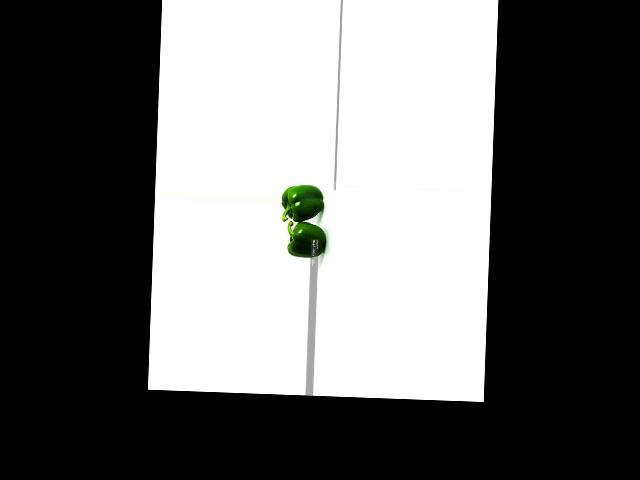bell_pepper: (278, 184, 330, 222)
